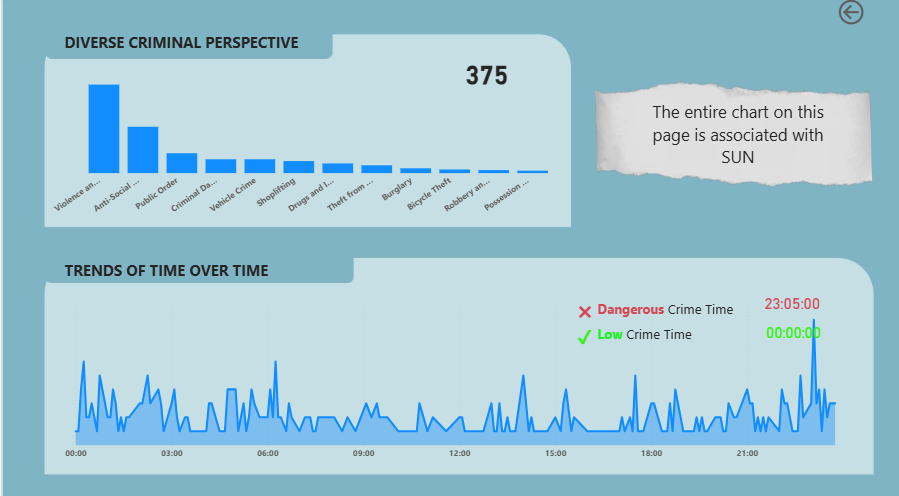

The dashboard page shown, as its layout file describes it:
{"tool":"powerbi","page":{"name":"Crime Analysis Report 2","canvas":[1280,720],"ordinal":1},"visuals":[{"type":"actionButton","box":[1188,0,92.2,46.1],"z":0},{"type":"areaChart","fields":{"Category":["Crimes Data.Crime Time"],"Y":["Calculation.Total Crimes"]},"box":[84.3,428.6,1125.7,242.9],"z":1000},{"type":"card","fields":{"Values":["Crimes Data.DrillThrough"]},"box":[910,130,280,121.4],"z":2000},{"type":"clusteredColumnChart","fields":{"Y":["Calculation.Total Crimes"],"Category":["Crime Types.Crime"]},"box":[61.4,110,745.7,212.9],"z":3000},{"type":"textbox","box":[844.3,428.6,262.9,50],"z":4000},{"type":"card","fields":{"Values":["Calculation.Cross"]},"box":[807.1,414.3,48.6,64.3],"z":5000},{"type":"textbox","box":[898.6,478.6,168.6,48.6],"z":6000},{"type":"textbox","box":[844.3,464.3,297.1,45.7],"z":7000},{"type":"card","fields":{"Values":["Calculation.Check"]},"box":[805.7,464.3,50,45.7],"z":8000},{"type":"card","fields":{"Values":["Min(Crimes Data.Crime Time)"]},"box":[1068.6,457.1,121.4,45.7],"z":9000},{"type":"card","fields":{"Values":["Min(Crimes Data.Crime Time)"]},"box":[1068.6,421.4,117.1,35.7],"z":10000},{"type":"textbox","box":[84.3,371.4,380,57.1],"z":11000},{"type":"textbox","box":[84.3,45.7,410,64.3],"z":12000},{"type":"card","fields":{"Values":["Calculation.Total Crimes"]},"box":[630,74.3,125.7,71.4],"z":13000}]}

Visuals, with their boxes in screenshot pixels (x1, y1, x2, y2), scaled from the page's 1280x720 canvas onto the 899x496 screenshot:
actionButton: pyautogui.locateOnScreen(834, 0, 898, 32)
areaChart - Crimes Data.Crime Time x Calculation.Total Crimes: pyautogui.locateOnScreen(59, 295, 850, 463)
card - Crimes Data.DrillThrough: pyautogui.locateOnScreen(639, 90, 836, 173)
clusteredColumnChart - Calculation.Total Crimes x Crime Types.Crime: pyautogui.locateOnScreen(43, 76, 567, 222)
textbox: pyautogui.locateOnScreen(593, 295, 778, 330)
card - Calculation.Cross: pyautogui.locateOnScreen(567, 285, 601, 330)
textbox: pyautogui.locateOnScreen(631, 330, 750, 363)
textbox: pyautogui.locateOnScreen(593, 320, 802, 351)
card - Calculation.Check: pyautogui.locateOnScreen(566, 320, 601, 351)
card - Min(Crimes Data.Crime Time): pyautogui.locateOnScreen(751, 315, 836, 346)
card - Min(Crimes Data.Crime Time): pyautogui.locateOnScreen(751, 290, 833, 315)
textbox: pyautogui.locateOnScreen(59, 256, 326, 295)
textbox: pyautogui.locateOnScreen(59, 31, 347, 76)
card - Calculation.Total Crimes: pyautogui.locateOnScreen(442, 51, 531, 100)
